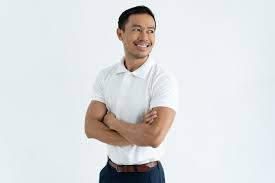asian_male: (123, 13, 156, 64)
